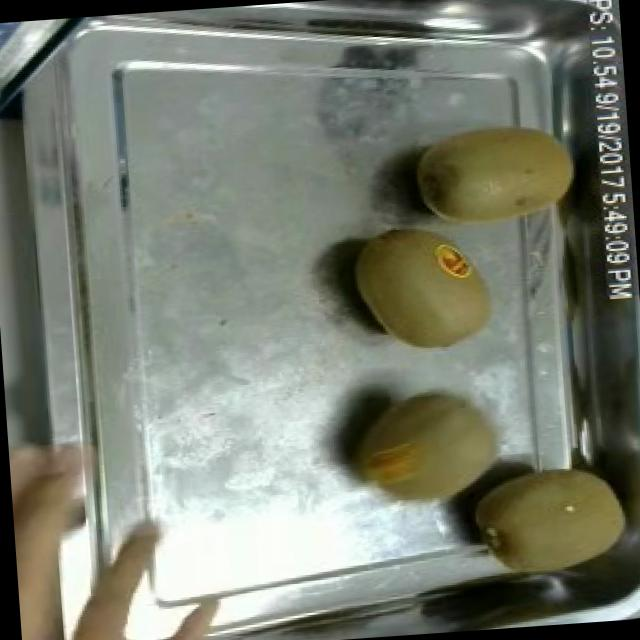Fruit: (328, 372, 516, 528), (457, 446, 640, 598), (400, 106, 590, 242), (340, 210, 504, 364), (6, 417, 114, 640)
